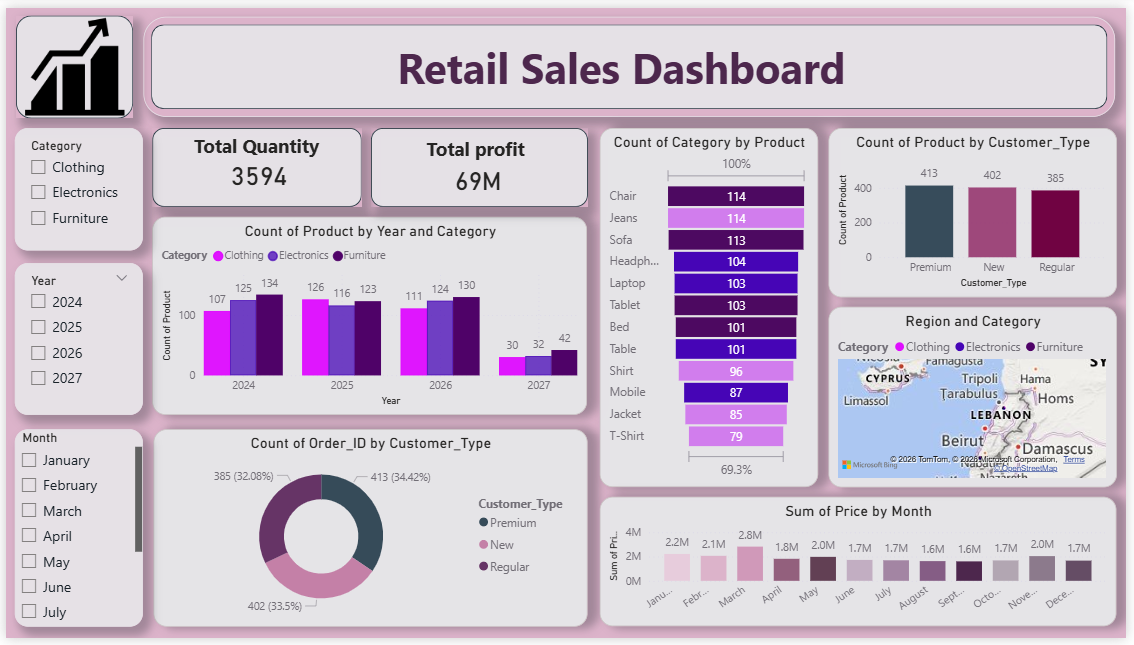

The page's visual inventory and layout, read from the dashboard file:
{"tool":"powerbi","page":{"name":"Page 1","canvas":[1280,720],"ordinal":0},"visuals":[{"type":"shape","box":[11.3,8.1,133.9,117.7],"z":0},{"type":"shape","box":[157.3,9.3,1110.7,114.7],"z":1000},{"type":"shape","box":[167.6,136.6,239.4,90.1],"z":2000},{"type":"clusteredColumnChart","fields":{"Category":["retail_data.Order_Date.Variation.Date Hierarchy.Year"],"Y":["CountNonNull(retail_data.Product)"],"Series":["retail_data.Category"]},"box":[167.6,238,497.2,226.8],"z":3000},{"type":"shape","box":[416.9,136.6,247.9,90.1],"z":4000},{"type":"donutChart","fields":{"Category":["retail_data.Customer_Type"],"Y":["CountNonNull(retail_data.Order_ID)"]},"box":[169,481.7,495.8,225.4],"z":5000},{"type":"funnel","fields":{"Y":["CountNonNull(retail_data.Category)"],"Category":["retail_data.Product"]},"box":[678.7,137.3,249.3,410.7],"z":6000},{"type":"clusteredColumnChart","fields":{"Y":["Sum(retail_data.Price)"],"Category":["retail_data.Order_Date.Variation.Date Hierarchy.Month"]},"box":[678.9,559.2,590.1,147.9],"z":7000},{"type":"columnChart","fields":{"Category":["retail_data.Customer_Type"],"Y":["CountNonNull(retail_data.Product)"]},"box":[940,137.3,329.3,193.3],"z":8000},{"type":"map","fields":{"Category":["retail_data.Region"],"Series":["retail_data.Category"]},"box":[940,341.3,329.3,206.7],"z":9000},{"type":"textbox","box":[416,136,249.3,45.3],"z":11000},{"type":"card","fields":{"Values":["Sum(retail_data.Revenue)"]},"box":[416,181.3,248,50.7],"z":12000},{"type":"textbox","box":[169.3,137.3,238.7,54.7],"z":13000},{"type":"card","fields":{"Values":["Sum(retail_data.Quantity)"]},"box":[169.3,169.3,238.7,62.7],"z":14000},{"type":"slicer","fields":{"Values":["retail_data.Category"]},"box":[10.7,137.3,146.7,140],"z":15000},{"type":"slicer","fields":{"Values":["retail_data.Order_Date.Variation.Date Hierarchy.Year"]},"box":[10.7,292,146.7,173.3],"z":16000},{"type":"slicer","fields":{"Values":["retail_data.Order_Date.Variation.Date Hierarchy.Month"]},"box":[10.7,481.3,146.7,225.3],"z":17000},{"type":"textbox","box":[168,30.7,1082.7,81.3],"z":18000},{"type":"image","box":[11.4,10,134.3,114.3],"z":19000}]}

Visuals, with their boxes in screenshot pixels (x1, y1, x2, y2), scaled from the page's 1280x720 canvas onto the 1134x645 screenshot:
shape: 10:7:129:113
shape: 139:8:1123:111
shape: 148:122:361:203
clusteredColumnChart - retail_data.Order_Date.Variation.Date Hierarchy.Year x CountNonNull(retail_data.Product): 148:213:589:416
shape: 369:122:589:203
donutChart - retail_data.Customer_Type x CountNonNull(retail_data.Order_ID): 150:432:589:633
funnel - CountNonNull(retail_data.Category) x retail_data.Product: 601:123:822:491
clusteredColumnChart - Sum(retail_data.Price) x retail_data.Order_Date.Variation.Date Hierarchy.Month: 601:501:1124:633
columnChart - retail_data.Customer_Type x CountNonNull(retail_data.Product): 833:123:1125:296
map - retail_data.Region x retail_data.Category: 833:306:1125:491
textbox: 369:122:589:162
card - Sum(retail_data.Revenue): 369:162:588:208
textbox: 150:123:361:172
card - Sum(retail_data.Quantity): 150:152:361:208
slicer - retail_data.Category: 9:123:139:248
slicer - retail_data.Order_Date.Variation.Date Hierarchy.Year: 9:262:139:417
slicer - retail_data.Order_Date.Variation.Date Hierarchy.Month: 9:431:139:633
textbox: 149:28:1108:100
image: 10:9:129:111
